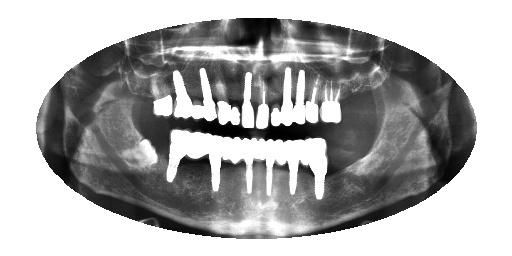i10loss: (217, 128, 246, 179)
i11healthy: (205, 129, 227, 200)
i12loss: (182, 122, 213, 180)
i13healthy: (160, 121, 190, 190)
i16healthy: (117, 130, 164, 182)
i3healthy: (300, 132, 330, 202)
i4loss: (296, 129, 316, 176)
i5healthy: (284, 135, 304, 198)
i6loss: (270, 132, 292, 179)
i7healthy: (261, 133, 277, 199)
i8loss: (249, 129, 268, 168)
i9healthy: (239, 132, 265, 197)
u10healthy: (227, 89, 242, 130)
u11healthy: (210, 88, 234, 133)
u12healthy: (194, 65, 220, 125)
u13healthy: (185, 88, 209, 130)
u14healthy: (165, 63, 194, 123)
u15healthy: (144, 67, 176, 123)
u3healthy: (315, 74, 347, 129)
u4healthy: (301, 67, 326, 127)
u5healthy: (290, 61, 312, 128)
u6healthy: (277, 62, 295, 129)
u7healthy: (266, 85, 285, 134)
u8healthy: (253, 75, 273, 131)
u9healthy: (236, 63, 259, 133)
